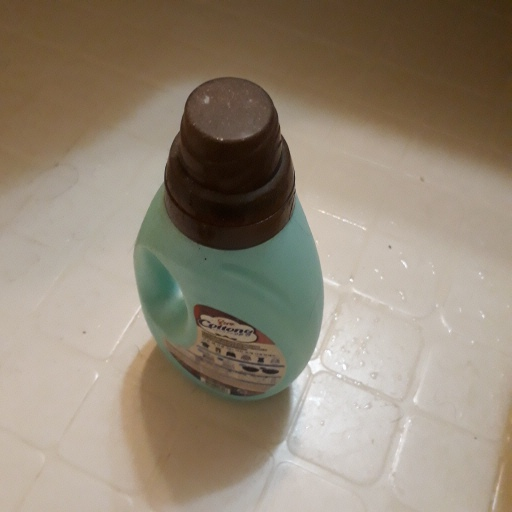Plastic_1: (134, 72, 325, 401)
